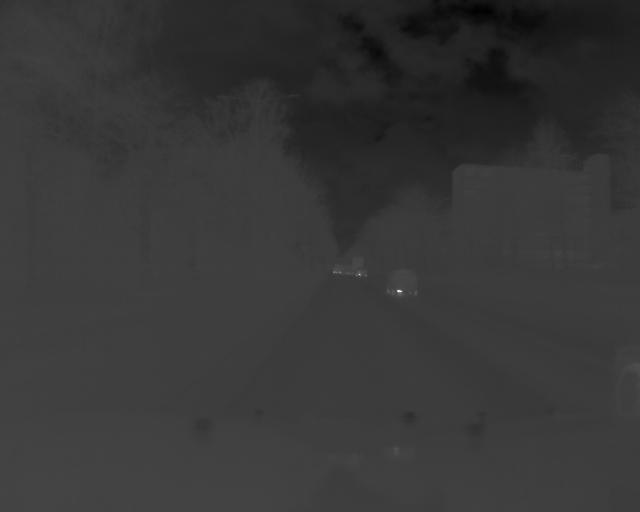car: (384, 267, 421, 302)
